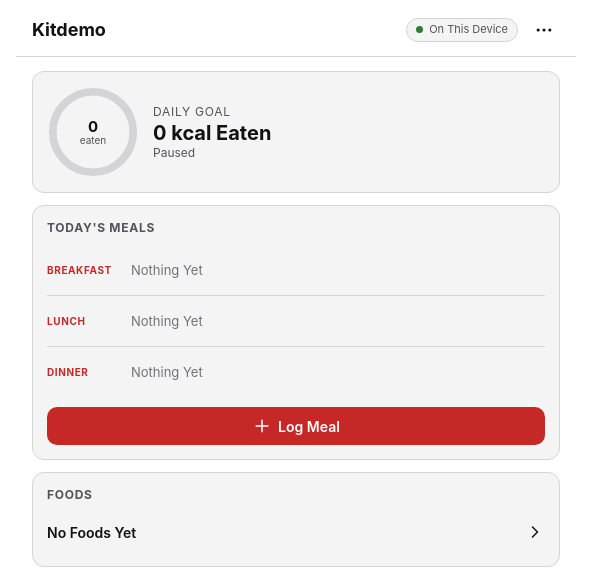
Test: kitdemo Shell goal screen › falls back to the newest goal when none is active
What coordinates should you click on to do the following:
click the button "0 eaten Daily Goal 0 kcal Eaten Paused"
I would click on:
 (93, 132)
Its box is [47,86,545,178].
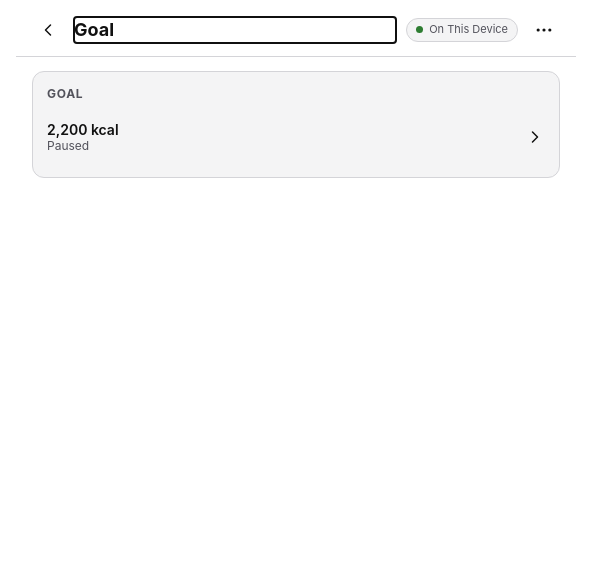
Expected: the heading "Goal" next to "On This Device" is shown, [74,19,114,40]
Expected: the element named "Goal" shows "2,200 kcal", [47,111,545,163]
Expected: the element named "Goal" shows "Paused", [47,111,545,163]
